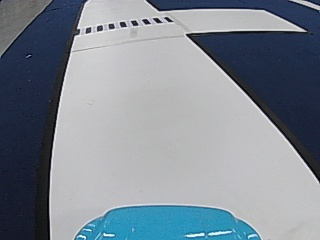CrossWalk: (79, 16, 173, 37)
